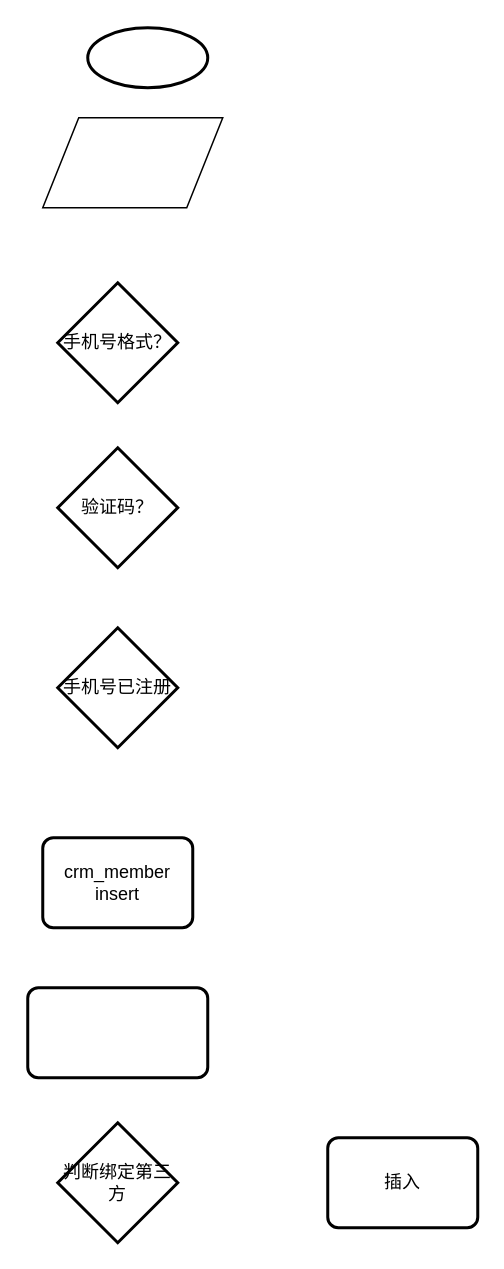
Image size: 504x1269. Some labels were removed from this diagram. Here are the shapes that lost their labels. From the top down, the centre of each, then its label:
(147,57): 开始
(132,162): 输入mobile,pwd,smscode
(117,1032): update crm_member.loginid logintime,logins
